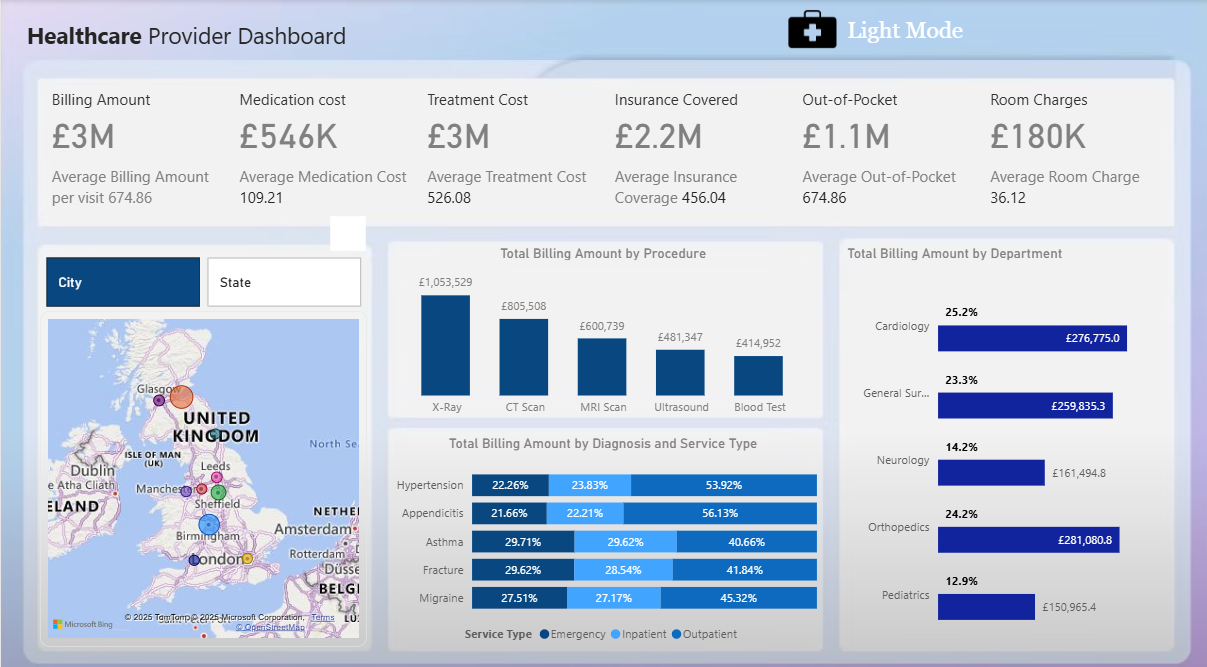

Layout of this report page (visuals, bound fields, positions):
{"tool":"powerbi","page":{"name":"Light","canvas":[1280,720],"ordinal":0},"visuals":[{"type":"cardVisual","fields":{"Data":["DAX Calculation.Total Billing Amount","DAX Calculation.Total Medication cost","DAX Calculation.Total Treatment Cost","DAX Calculation.Total Insurance Covered","DAX Calculation.Out-of-Pocket","DAX Calculation.Total Room Charges"]},"box":[42.9,65.2,1202.5,184.5],"z":0},{"type":"map","fields":{"Series":["cities.City"],"Category":["cities.City","cities.State"],"Size":["DAX Calculation.Total Billing Amount"]},"box":[41.4,330.8,346.8,356.3],"z":1000},{"type":"advancedSlicerVisual","fields":{"Values":["Patients Location Switch.Patients Location Switch"]},"box":[42.9,268.8,345.2,62],"z":2000},{"type":"clusteredColumnChart","title":"Total Billing Amount by Procedure","fields":{"Category":["procedures.Procedure"],"Y":["DAX Calculation.All Billing Amount"]},"box":[407.2,260.9,462.9,189.3],"z":3000},{"type":"hundredPercentStackedBarChart","fields":{"Category":["diagnoses.Diagnosis"],"Y":["DAX Calculation.Total Billing Amount"],"Series":["visits.Service Type"]},"box":[407.2,462.9,462.9,229],"z":4000},{"type":"clusteredBarChart","title":"Total Billing Amount by Department","fields":{"Category":["departments.Department"],"Y":["DAX Calculation.Blank Measure","DAX Calculation.Total Billing Amount"]},"box":[892.3,260.9,351.5,432.6],"z":5000},{"type":"textbox","box":[22.3,15.9,384.9,49.3],"z":6000},{"type":"image","box":[828.7,0,63.6,65.2],"z":7000},{"type":"textbox","box":[892.3,14.3,155.9,50.9],"z":8000}]}

Visuals, with their boxes in screenshot pixels (x1, y1, x2, y2), scaled from the page's 1280x720 canvas onto the 1207x667 screenshot:
cardVisual - DAX Calculation.Total Billing Amount x DAX Calculation.Total Medication cost: <bbox>40, 60, 1174, 231</bbox>
map - cities.City x cities.City: <bbox>39, 306, 366, 637</bbox>
advancedSlicerVisual - Patients Location Switch.Patients Location Switch: <bbox>40, 249, 366, 306</bbox>
"Total Billing Amount by Procedure" clusteredColumnChart: <bbox>384, 242, 820, 417</bbox>
hundredPercentStackedBarChart - diagnoses.Diagnosis x DAX Calculation.Total Billing Amount: <bbox>384, 429, 820, 641</bbox>
"Total Billing Amount by Department" clusteredBarChart: <bbox>841, 242, 1173, 642</bbox>
textbox: <bbox>21, 15, 384, 60</bbox>
image: <bbox>781, 0, 841, 60</bbox>
textbox: <bbox>841, 13, 988, 60</bbox>
